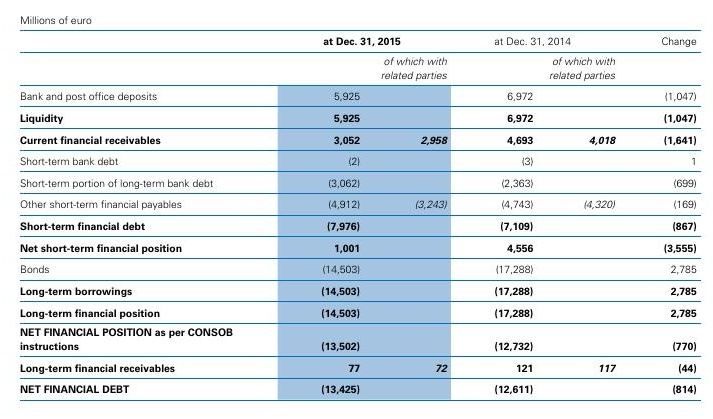table: (0, 0, 713, 419)
